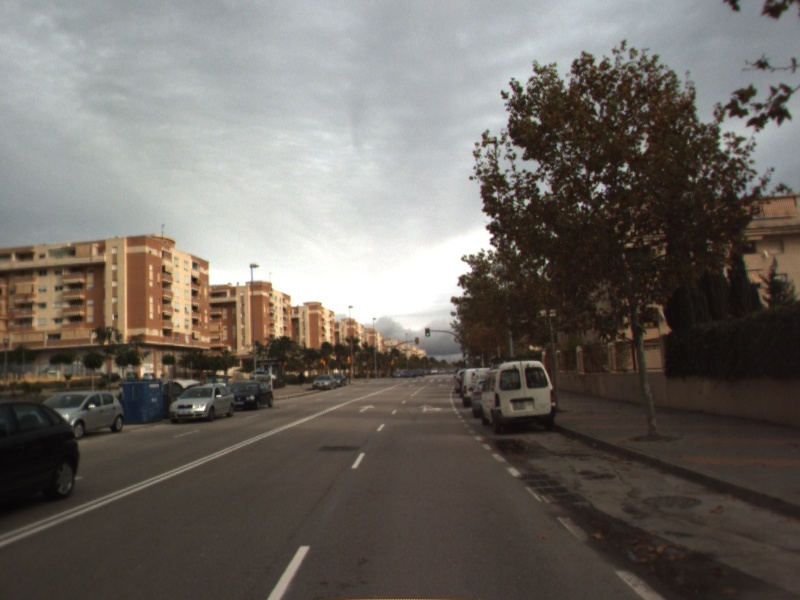STRAIGHT: (356, 402, 378, 415)
STRAIGHT_RIGHT: (416, 402, 445, 414)
